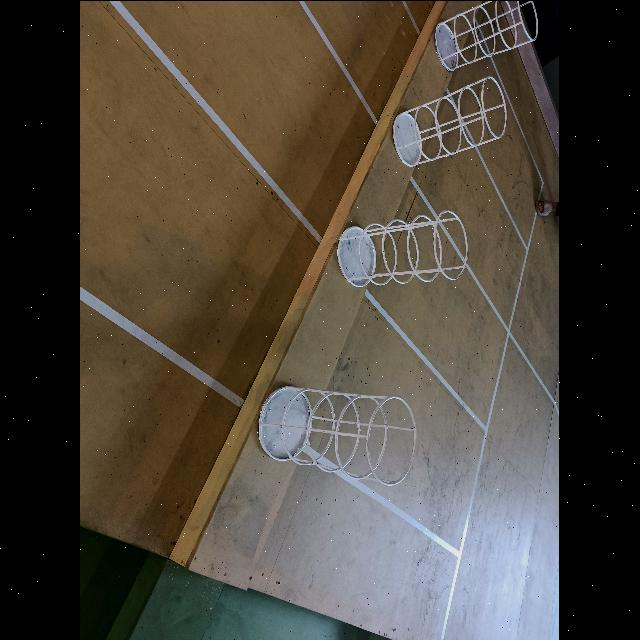S: (257, 384, 420, 487)
